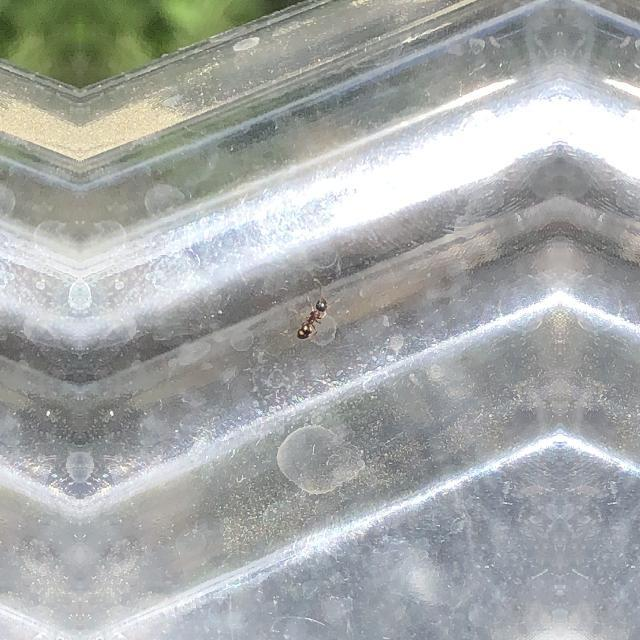Dolichoderus: (290, 288, 332, 348)
